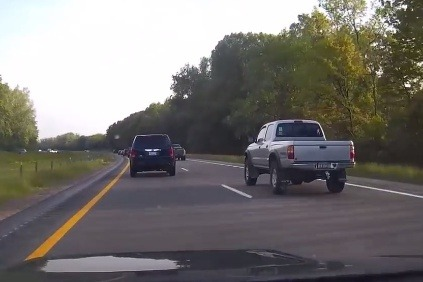car: (246, 119, 356, 191), (127, 131, 177, 175), (170, 142, 187, 165)
